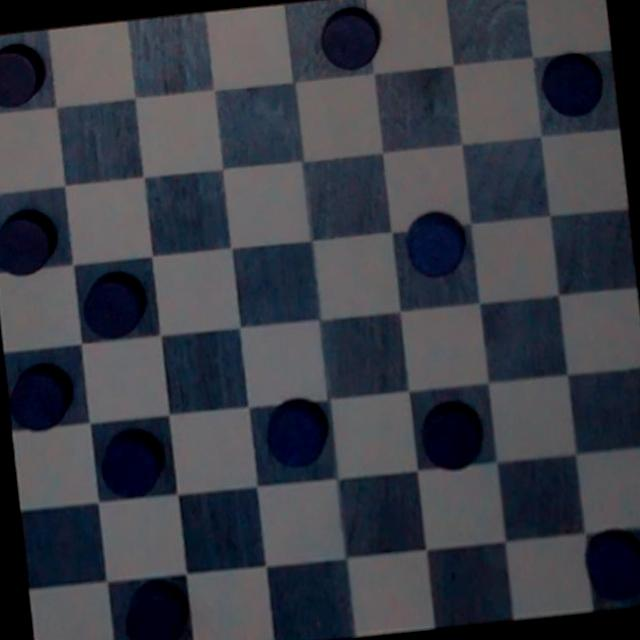BOARD: (0, 0, 640, 640)
black: (392, 198, 480, 290), (530, 34, 616, 124), (253, 387, 343, 472), (407, 395, 489, 484), (565, 516, 640, 613), (66, 266, 153, 344), (109, 570, 196, 640), (3, 357, 77, 436), (92, 426, 164, 500), (317, 0, 386, 75), (0, 201, 58, 283), (0, 28, 47, 114)
